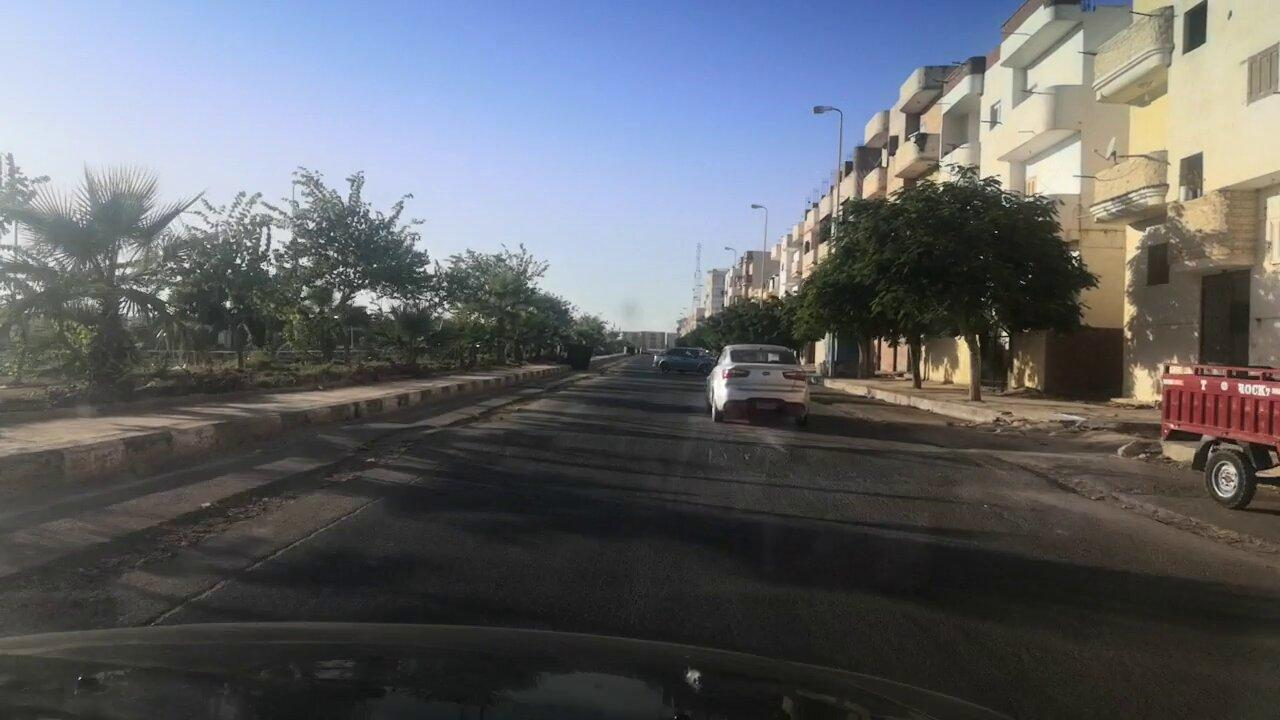Pothole: (45, 432, 415, 583)
